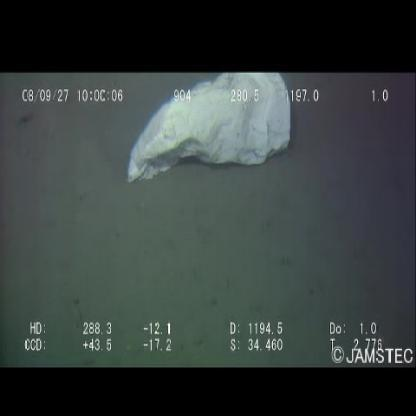Rác: (122, 70, 299, 197)
